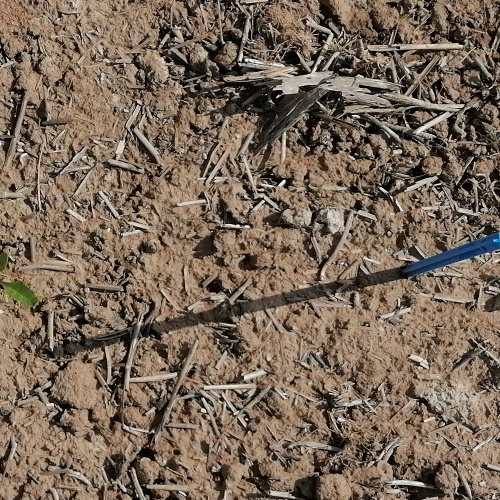beet: (0, 254, 39, 306)
